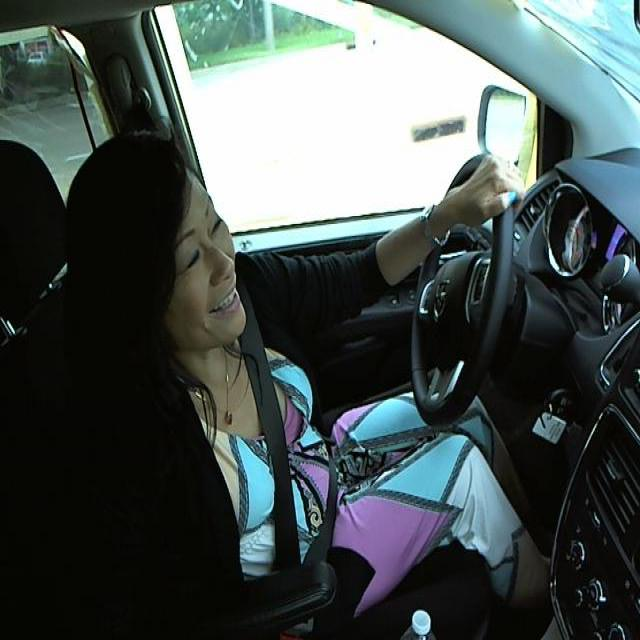seatbelt: (237, 342, 349, 554)
